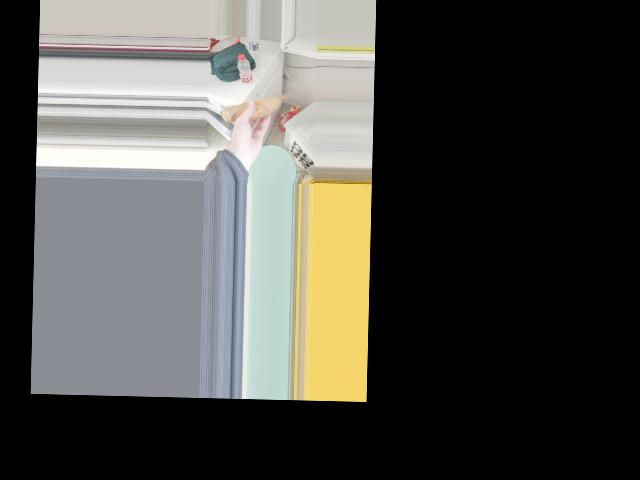sweet_potato: (224, 89, 288, 126)
